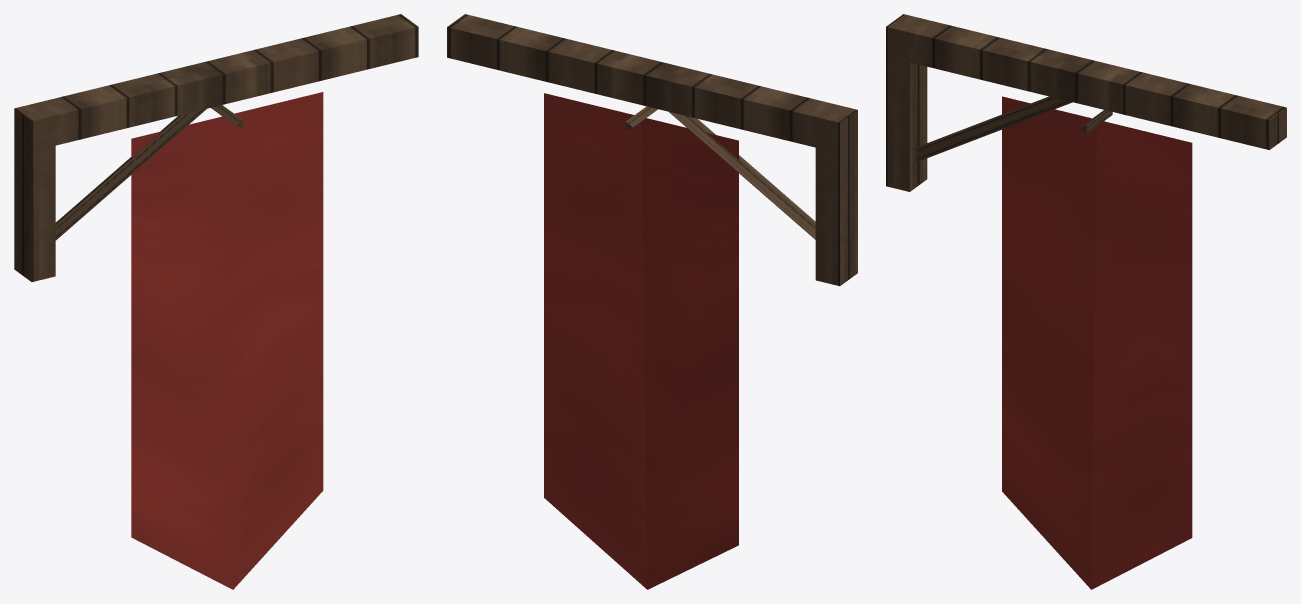
Rendered from Banner_2_LOD2.gltf.
The picture shows the model from 3 angles, left to right: view 1: azimuth 30°, elevation 25°; view 2: azimuth 150°, elevation 25°; view 3: azimuth 330°, elevation 25°; orthographic projection. The views are drawn at different scales.
Parts seen in each view (by area): view 1: Banner_2_LOD2; view 2: Banner_2_LOD2; view 3: Banner_2_LOD2.
Boxes of the visible parts, bbox=[...] form: Banner_2_LOD2: bbox=[14, 14, 418, 589]; Banner_2_LOD2: bbox=[447, 14, 857, 589]; Banner_2_LOD2: bbox=[886, 14, 1286, 589].
Size of the model in its own units: 1.61 by 2.07 by 0.19.
Materials: 2 (2 with a texture image).
